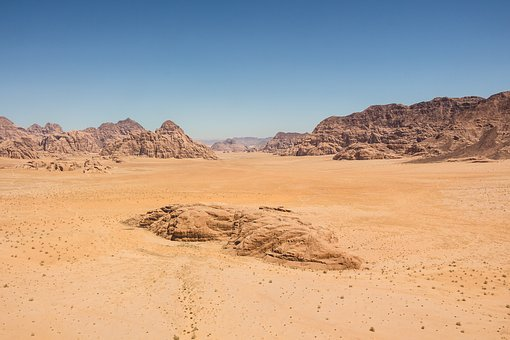ground: (4, 128, 510, 335)
mountain: (273, 99, 510, 160), (4, 114, 218, 163)
sky: (2, 1, 509, 106)
